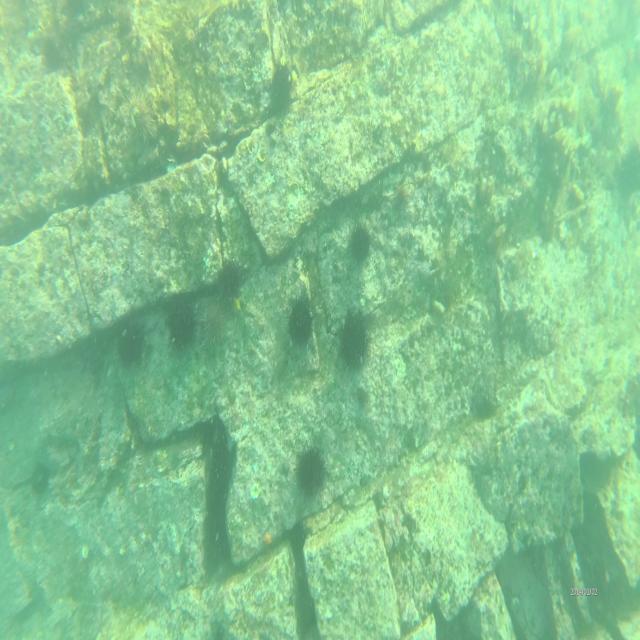echinus: (119, 88, 159, 141), (201, 309, 230, 368), (339, 312, 367, 367), (296, 448, 328, 496), (116, 320, 145, 366), (292, 296, 315, 351), (166, 300, 191, 348), (214, 266, 242, 308), (274, 59, 294, 116), (614, 155, 640, 198), (350, 220, 372, 261), (30, 463, 50, 498)
